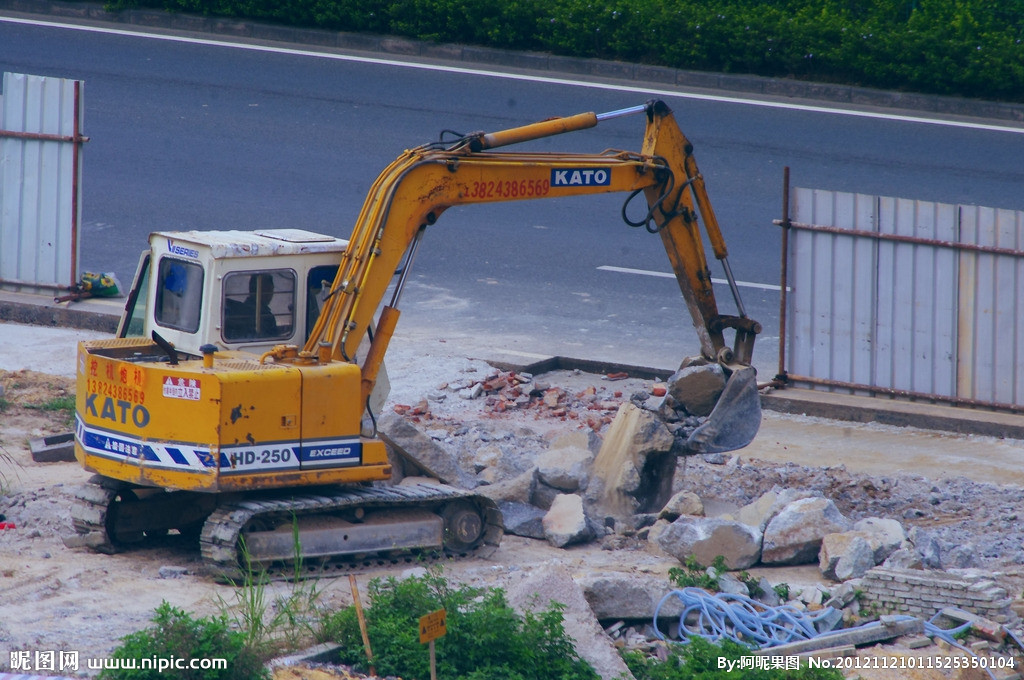excavator: (48, 92, 778, 614)
